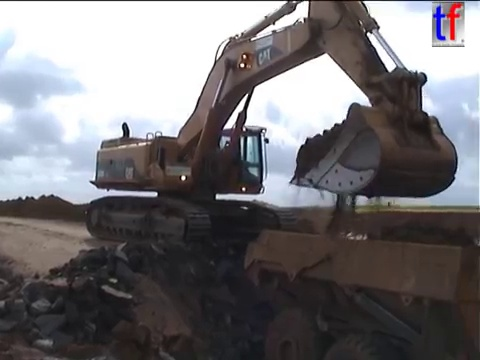excavator: (81, 1, 462, 251)
truck: (240, 207, 480, 360)
